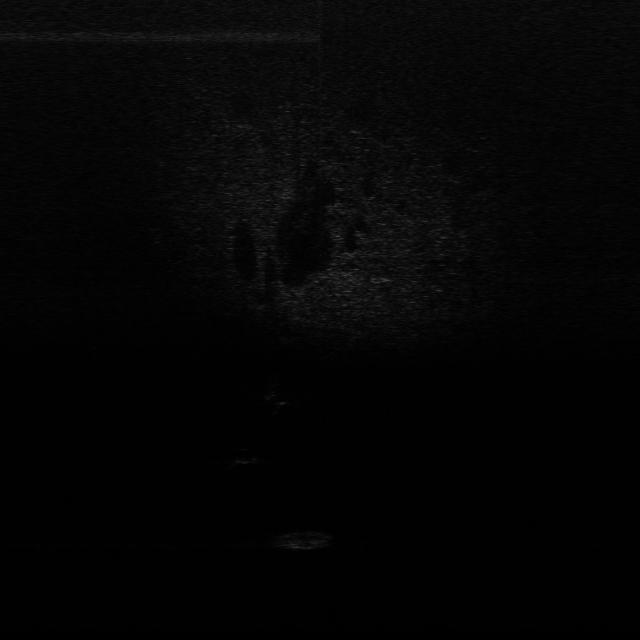ball: (227, 445, 261, 467)
circle cage: (270, 524, 336, 550)
human body: (262, 377, 292, 418)
